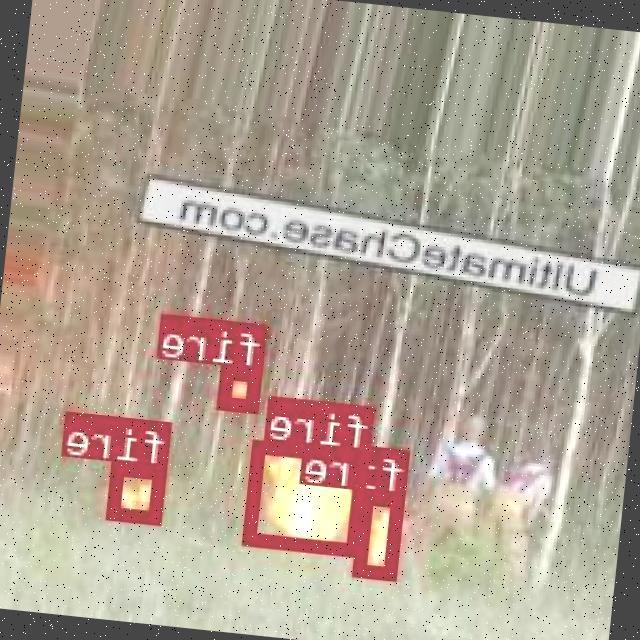fire: (245, 438, 372, 554), (357, 490, 408, 579), (110, 460, 168, 522), (220, 362, 264, 410)
